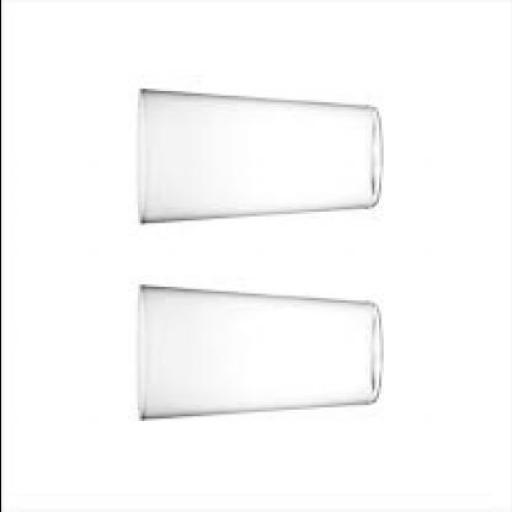glass: (132, 287, 380, 421), (132, 94, 378, 225)
